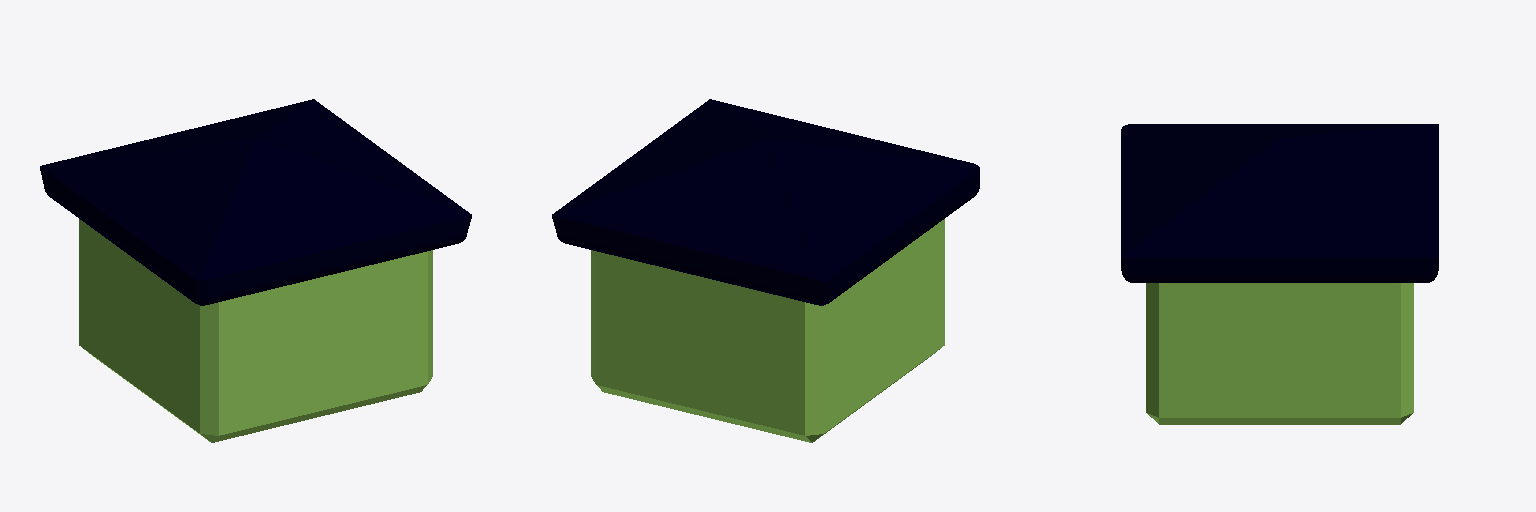
File: house_demo.obj
3 renders of one model, left to right at view 1: azimuth 30°, elevation 25°; view 2: azimuth 150°, elevation 25°; view 3: azimuth 270°, elevation 25°, orthographic.
Parts seen in each view (by area): view 1: Cube.001, Cube; view 2: Cube.001, Cube; view 3: Cube.001, Cube.
Boxes of the visible parts, x1=… form: Cube.001: x1=40, y1=99, x2=471, y2=305; Cube: x1=79, y1=219, x2=432, y2=442; Cube.001: x1=552, y1=99, x2=979, y2=305; Cube: x1=591, y1=219, x2=944, y2=442; Cube.001: x1=1121, y1=124, x2=1438, y2=282; Cube: x1=1146, y1=283, x2=1413, y2=424.
Bounding box in the file's own units: 2.36 × 1.93 × 2.36.